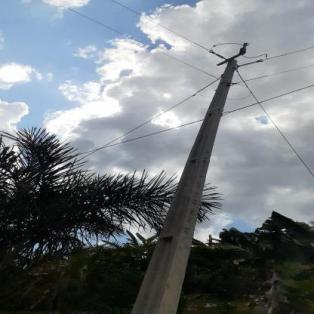Poste: (130, 53, 243, 314)
